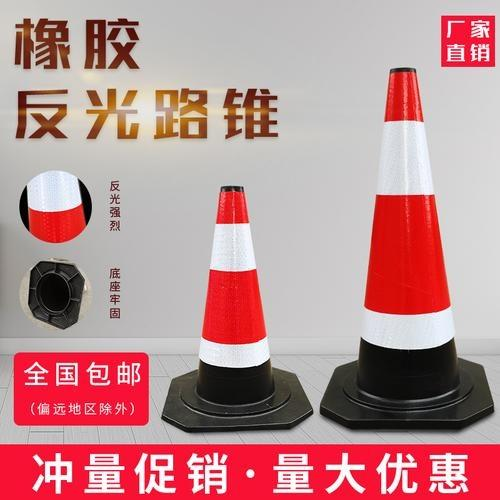cone_barrel: (335, 66, 478, 421), (178, 185, 293, 419)
